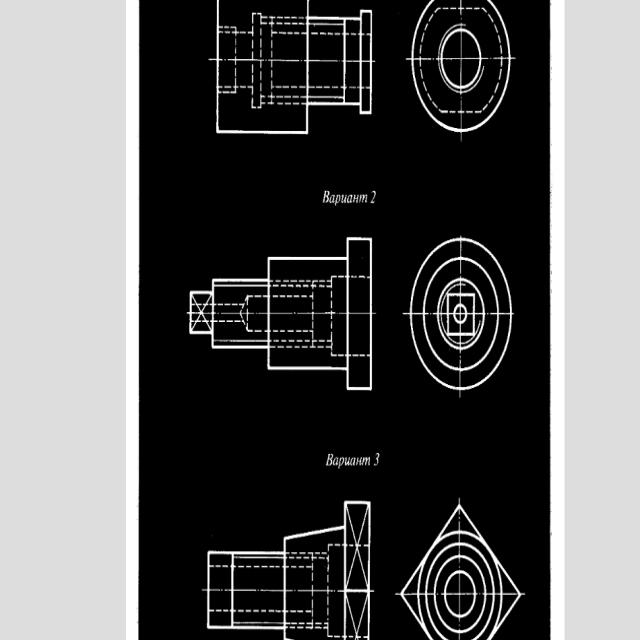numeric: (371, 451, 382, 469), (369, 188, 380, 205)
